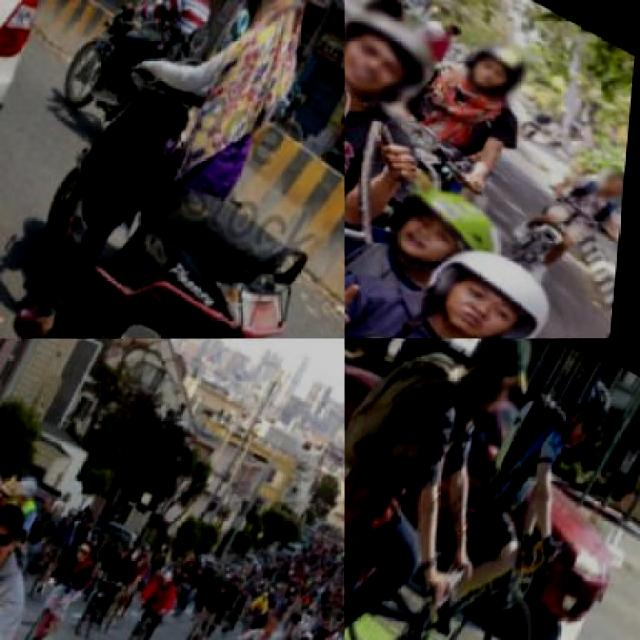With Helmet: (378, 152, 532, 302), (411, 211, 575, 337), (344, 0, 458, 122), (455, 16, 542, 104), (551, 354, 626, 454), (13, 467, 50, 507)
Without Helmet: (457, 338, 558, 428), (0, 488, 42, 569), (248, 0, 323, 29), (590, 147, 628, 196), (266, 601, 289, 627)
